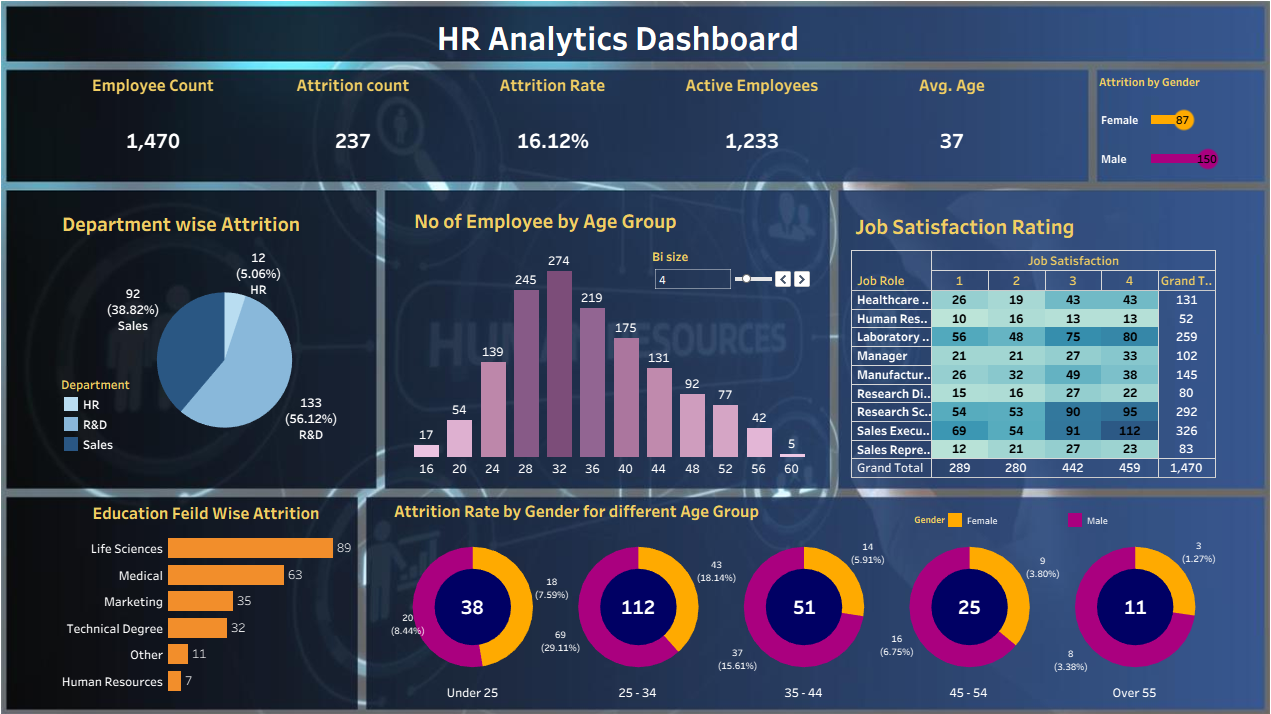

What the dashboard file says about the page in this screenshot:
{"tool":"tableau","page":{"name":"HR Analytics Dashboard","canvas":[1000,1000],"units":"permille","ordinal":0},"visuals":[{"type":"image","param":"Image/HR background.pptx.jpg","box":[7,13.7,986,972.6]},{"type":"text","box":[93.9,41.1,786.6,49.7]},{"type":"worksheet","title":"Attrition by Gender","mark":"Automatic","rows":["Gender"],"cols":["Calculation_1917023009845248","Calculation_1917023009845248"],"box":[832.3,109.6,93.1,150.7]},{"type":"worksheet","title":"KPI","mark":"Automatic","box":[70.2,116.4,737.5,147.3]},{"type":"worksheet","title":"No of Employee by Age Group","mark":"Automatic","rows":["Employee Count"],"cols":["Age (bin)"],"box":[333.6,289.4,294.1,373.3]},{"type":"worksheet","title":"Department wise Attrition","mark":"Pie","box":[73.8,294.5,245.8,361.3]},{"type":"worksheet","title":"Job Satisfaction Rating ","mark":"Square","rows":["Job Role"],"cols":["Job Satisfaction"],"box":[659.4,296.2,269.5,366.4]},{"type":"parameter","param":"[Parameters].[Parameter 1917023118237699]","box":[511.9,351,118.5,70.2]},{"type":"legend","title":"Department wise Attrition","param":"[federated.199s0k215bv10l11rqmzz0ef0px8].[none:Department:nk]","box":[76.4,524,73.8,133.6]},{"type":"worksheet","title":"Attrition Rate by Gender for different Age Group","mark":"Pie","rows":["Calculation_1917023393472518","Calculation_1917023393472518"],"cols":["CF_age band"],"box":[318.7,686.6,611.1,279.1]},{"type":"worksheet","title":"Education Feild Wise Attrition","mark":"Automatic","rows":["Education Field"],"cols":["Calculation_1917023009845248"],"box":[66.7,690.1,233.5,265.4]},{"type":"legend","title":"Attrition Rate by Gender for different Age Group","param":"[federated.199s0k215bv10l11rqmzz0ef0px8].[none:Gender:nk]","box":[675.6,705.5,285,42.8]}]}

Visuals, with their boxes on the dashboard's canvas, which has no fixed pixel size, in thousandths of its width and height (x1, y1, x2, y2). These are canvas units, not pixel positions in the 1271x714 screenshot, which may show the page scaled, cropped or inside an application window:
image: select_region(7, 14, 993, 986)
text: select_region(94, 41, 880, 91)
"Attrition by Gender" worksheet: select_region(832, 110, 925, 260)
"KPI" worksheet: select_region(70, 116, 808, 264)
"No of Employee by Age Group" worksheet: select_region(334, 289, 628, 663)
"Department wise Attrition" worksheet (Pie marks): select_region(74, 294, 320, 656)
"Job Satisfaction Rating " worksheet (Square marks): select_region(659, 296, 929, 663)
parameter: select_region(512, 351, 630, 421)
"Department wise Attrition" legend: select_region(76, 524, 150, 658)
"Attrition Rate by Gender for different Age Group" worksheet (Pie marks): select_region(319, 687, 930, 966)
"Education Feild Wise Attrition" worksheet: select_region(67, 690, 300, 956)
"Attrition Rate by Gender for different Age Group" legend: select_region(676, 706, 961, 748)
